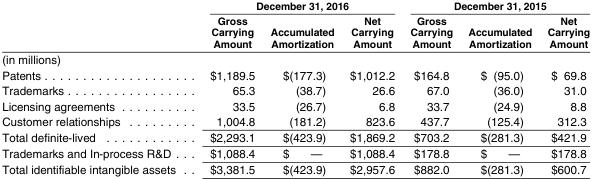table: (1, 1, 589, 175)
table column: (1, 1, 192, 175), (262, 1, 341, 175), (459, 1, 538, 175), (192, 1, 262, 175), (341, 1, 401, 175), (401, 1, 459, 175), (538, 1, 589, 175)
table column header: (1, 1, 589, 67)
table row: (1, 13, 589, 67), (1, 129, 589, 146), (1, 67, 589, 83), (1, 98, 589, 114), (1, 146, 589, 162), (1, 83, 589, 98), (1, 114, 589, 129), (1, 162, 589, 175), (1, 1, 589, 13)
table spanning cell: (1, 1, 192, 67), (192, 1, 401, 13), (401, 1, 589, 13)
